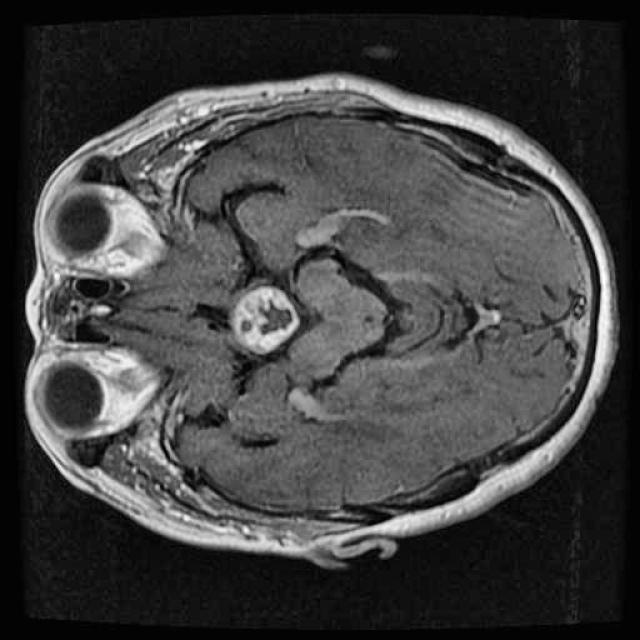Tumor: (225, 271, 306, 365)
